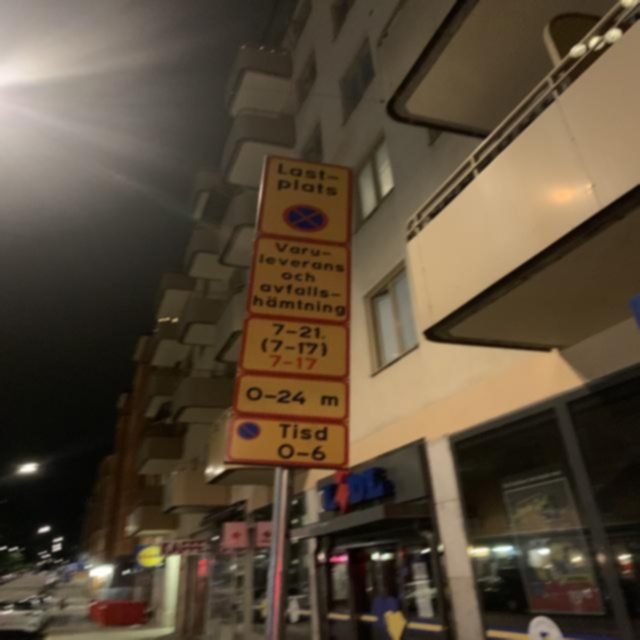lastplats: (256, 153, 352, 245)
